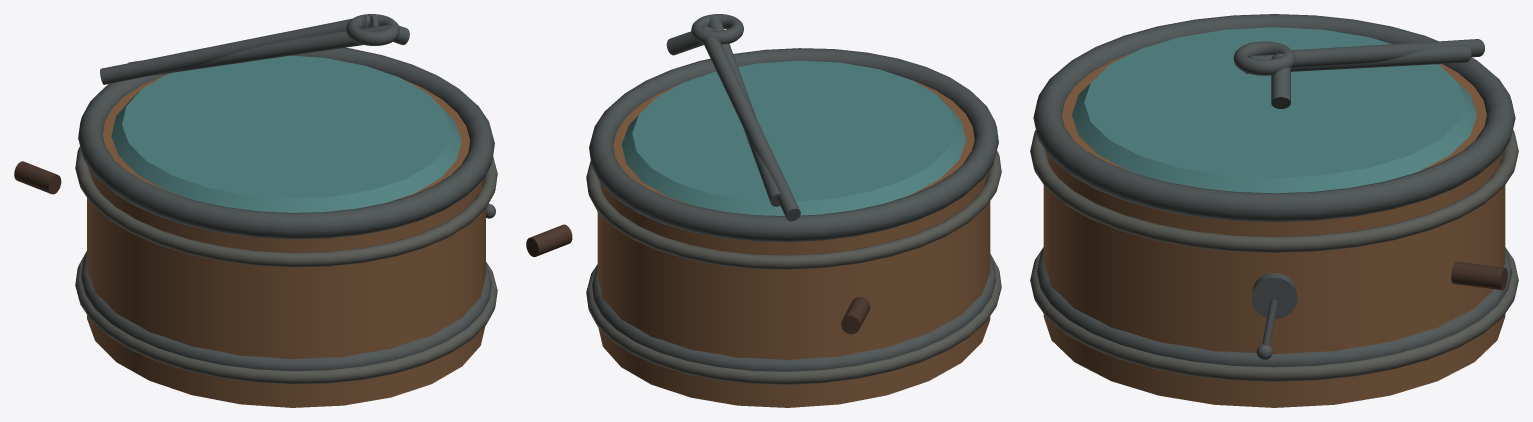
File: detail_quench_tub.glb
The picture shows the model from 3 angles, left to right: view 1: azimuth 30°, elevation 25°; view 2: azimuth 150°, elevation 25°; view 3: azimuth 270°, elevation 25°; orthographic projection. The views are drawn at different scales.
Parts seen in each view (by area): view 1: wood, cloth, stone, metal; view 2: wood, cloth, stone, metal; view 3: wood, cloth, stone, metal.
Boxes of the visible parts, x1,y1,x2,y2 form: wood: (14,75,485,407); cloth: (111,55,461,212); stone: (78,14,494,370); metal: (75,146,497,384); wood: (526,80,990,407); cloth: (621,60,966,215); stone: (589,14,998,371); metal: (586,151,1001,384); wood: (1043,53,1507,407); cloth: (1072,27,1476,193); stone: (1033,14,1515,367); metal: (1030,130,1518,381).
Bounding box in the file's own units: 1 × 0.7 × 1.
